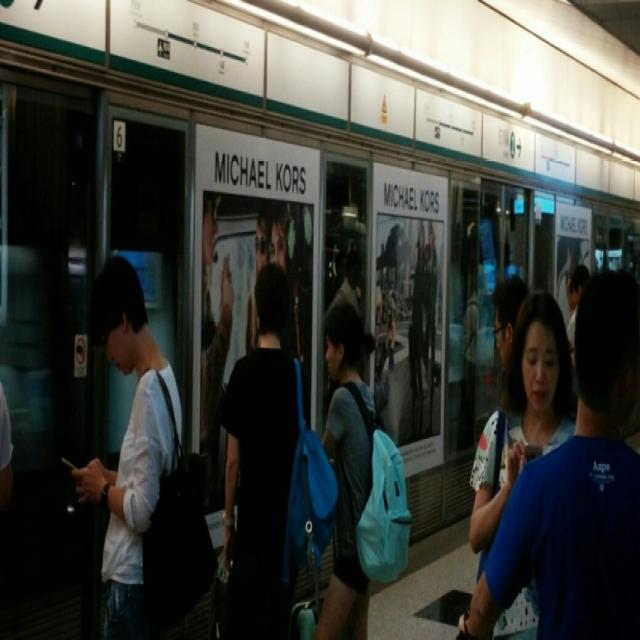body: (456, 263, 640, 640), (54, 246, 225, 638), (217, 258, 341, 640), (467, 286, 579, 640), (308, 295, 412, 640), (194, 200, 314, 478), (375, 207, 495, 430), (490, 272, 532, 372), (0, 345, 18, 518), (552, 238, 588, 317), (566, 264, 591, 368), (503, 207, 523, 274)
